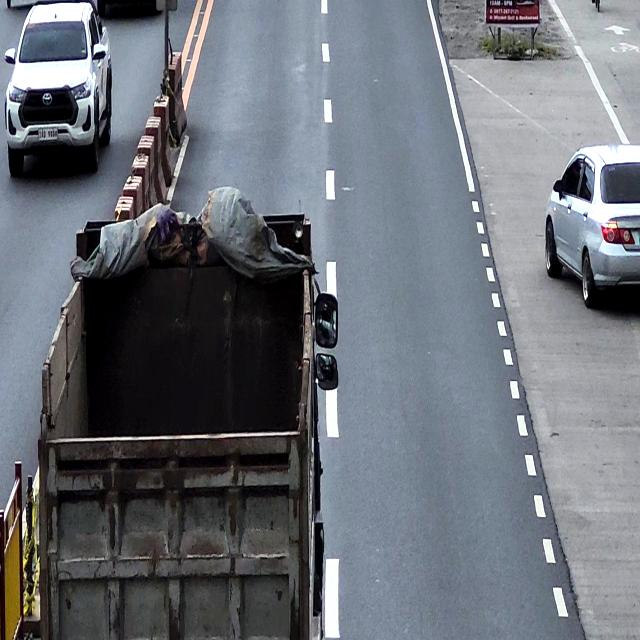Car: (3, 0, 112, 178), (544, 144, 640, 310)
License-Plate: (37, 126, 59, 142)
Truck: (37, 218, 339, 640)
